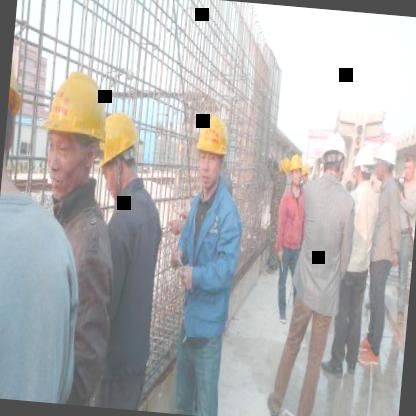helmet: (36, 68, 116, 200), (90, 102, 146, 200), (189, 103, 234, 196), (318, 134, 350, 181), (373, 139, 397, 184), (352, 144, 376, 186), (287, 148, 306, 192), (279, 154, 290, 182)
